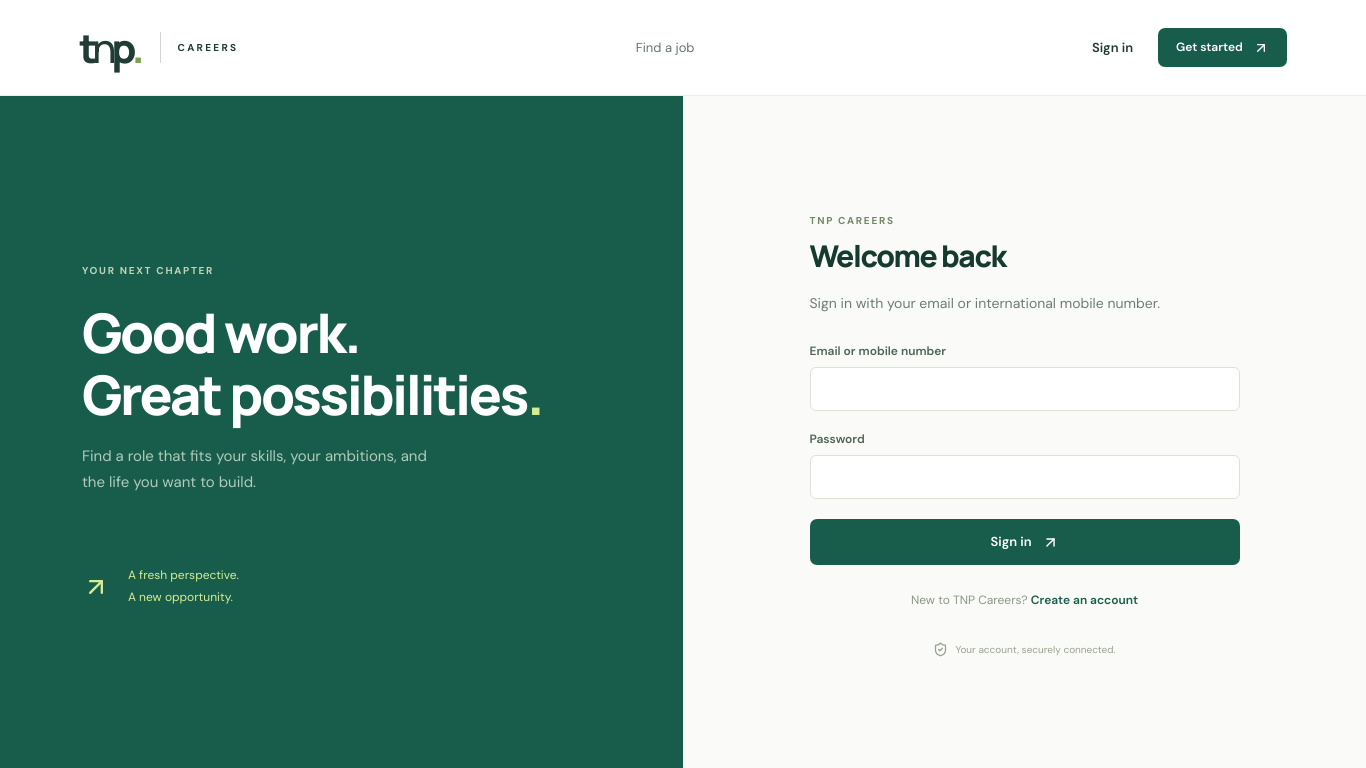
it: login at /login sends its intended role and displays a mismatch without signing in
The image size is (1366, 768).
Type "role@example.test" into the field labelled "Email or mobile number".
click(1024, 390); type("role@example.test")  # box [810, 368, 1240, 412]
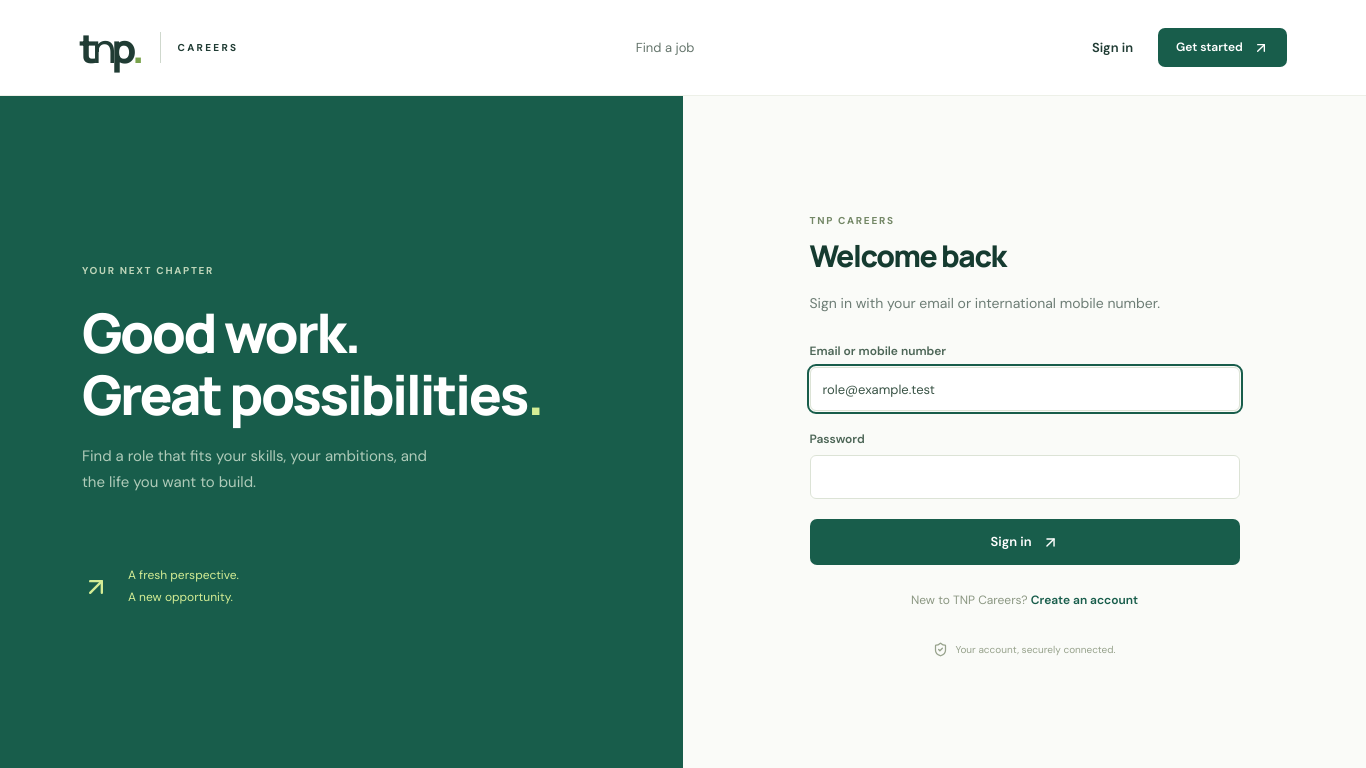
Type "a-test-password" into the password field labelled "Password".
click(1024, 478); type("a-test-password")  # box [810, 456, 1240, 500]
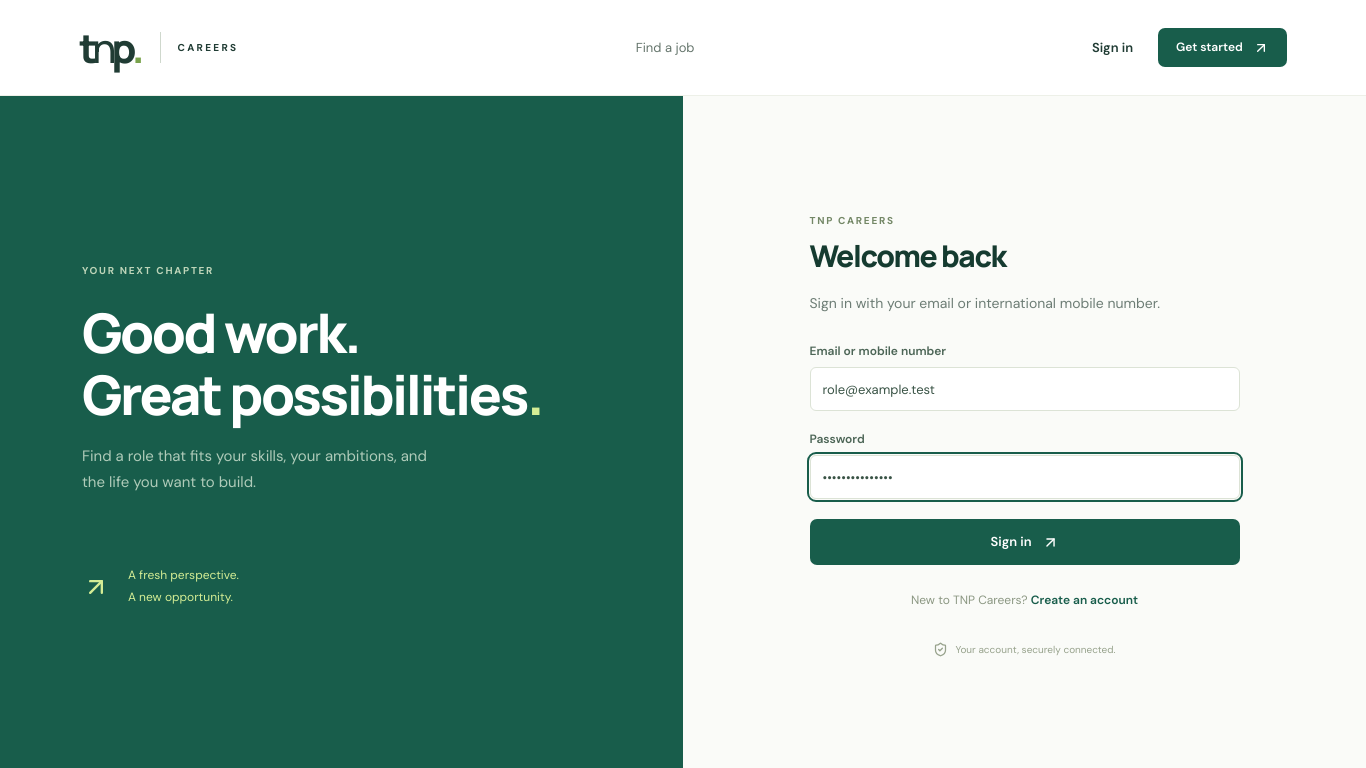
Click the button "Sign in".
click(1024, 542)  # box [810, 520, 1240, 566]
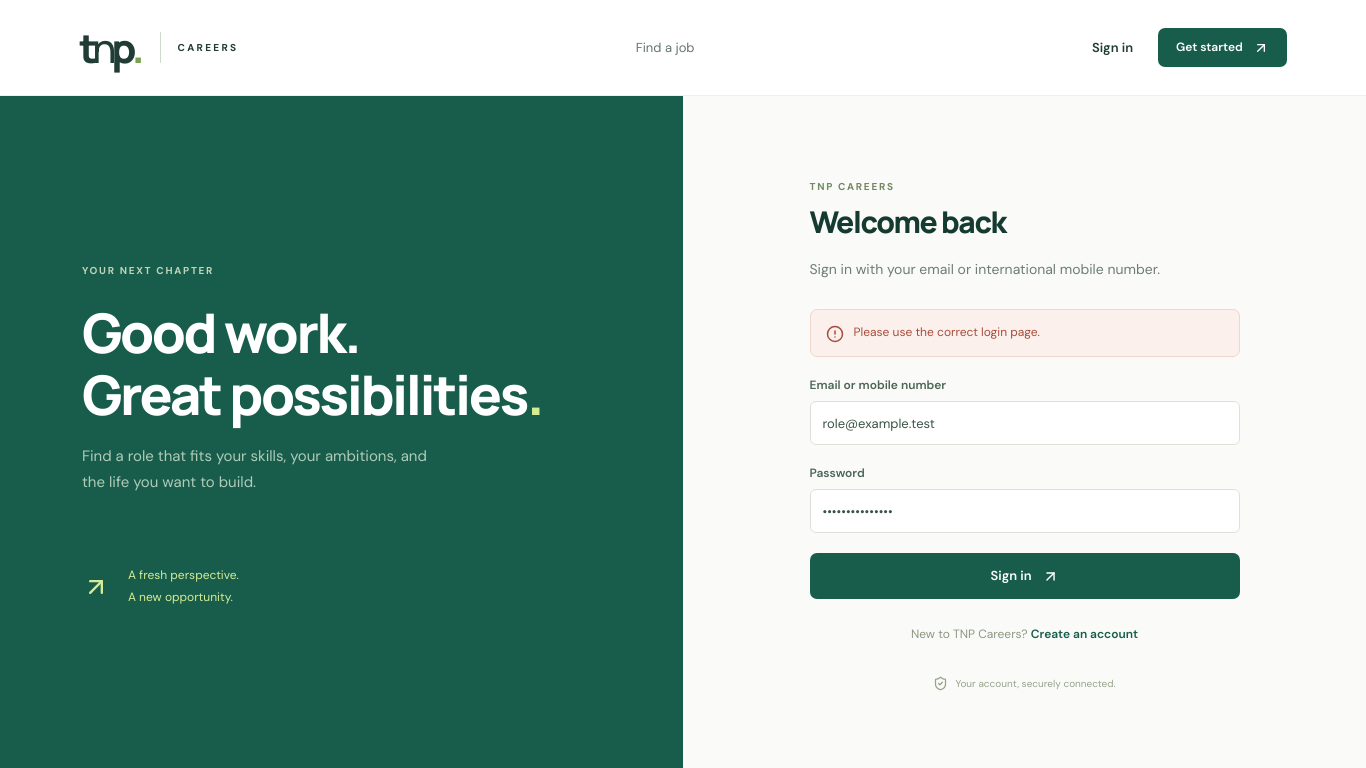
Expected: the button "Sign in" is shown, [810, 554, 1240, 600]
Now the text "Please use the correct login page." is shown, box [854, 324, 1040, 343]
